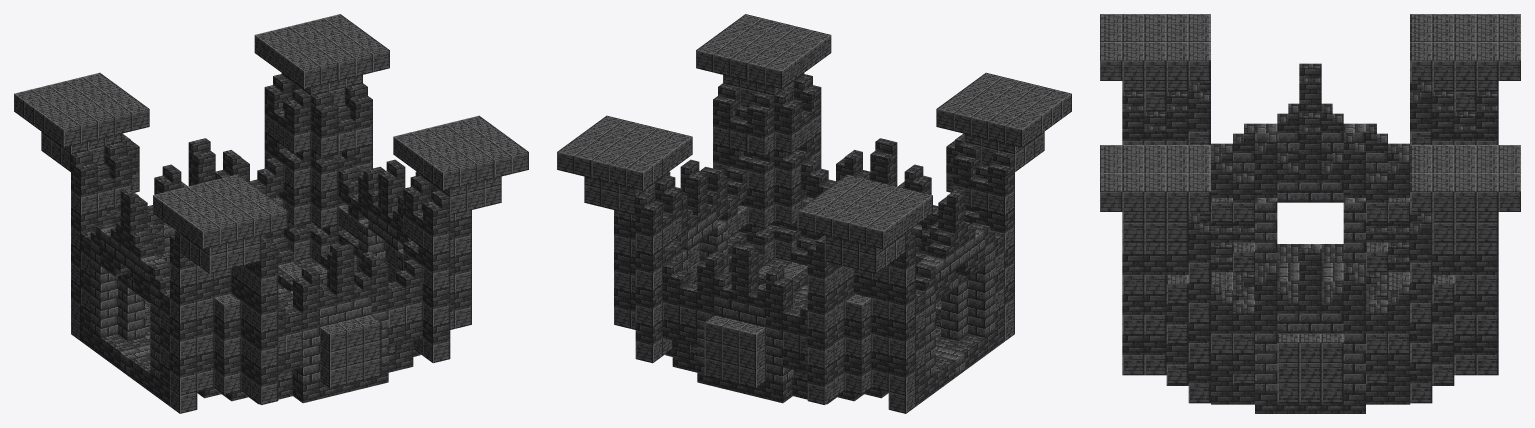
File: AncientLobby.fbx
The picture shows the model from 3 angles, left to right: view 1: azimuth 30°, elevation 25°; view 2: azimuth 150°, elevation 25°; view 3: azimuth 270°, elevation 25°; orthographic projection. The views are drawn at different scales.
Visible parts, largest first — view 1: New_World__45_-60_13_to_63_319_31; view 2: New_World__45_-60_13_to_63_319_31; view 3: New_World__45_-60_13_to_63_319_31.
Part boxes in pixels (left/top/right/bottom): New_World__45_-60_13_to_63_319_31: left=14, top=14, right=528, bottom=413; New_World__45_-60_13_to_63_319_31: left=557, top=14, right=1071, bottom=413; New_World__45_-60_13_to_63_319_31: left=1100, top=14, right=1520, bottom=413.
Bounding box in the file's own units: 1900 × 1200 × 1900.
Materials: 3 (3 with a texture image).
